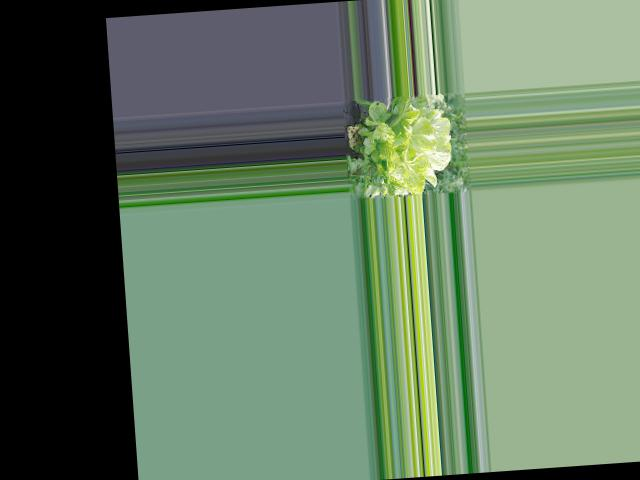lettuce: (363, 96, 452, 188)
